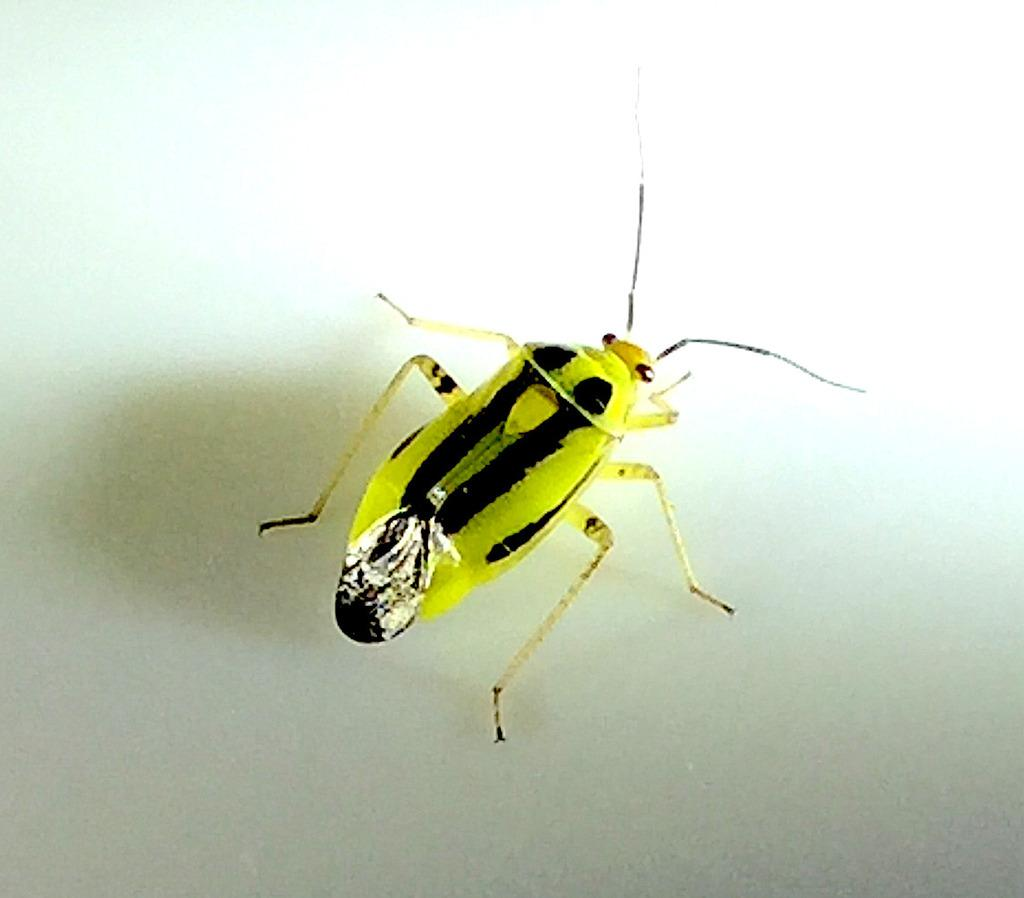plant_bugs: (213, 125, 911, 789)
